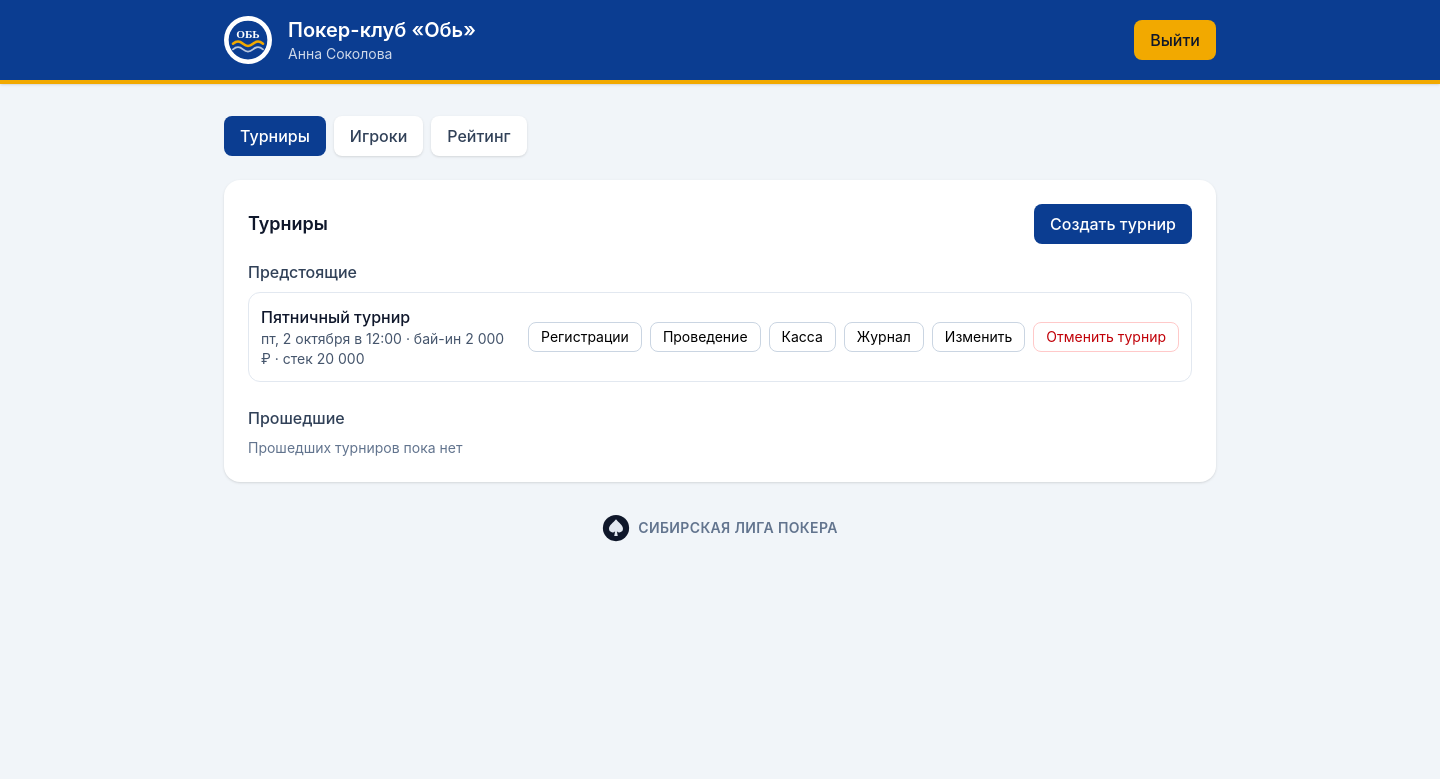
Scenario: tournament registrations › says whose phone it is when a new player turns out to be known in the league
Click the button "Регистрации" at (585,337), box left=528, top=322, right=642, bottom=352
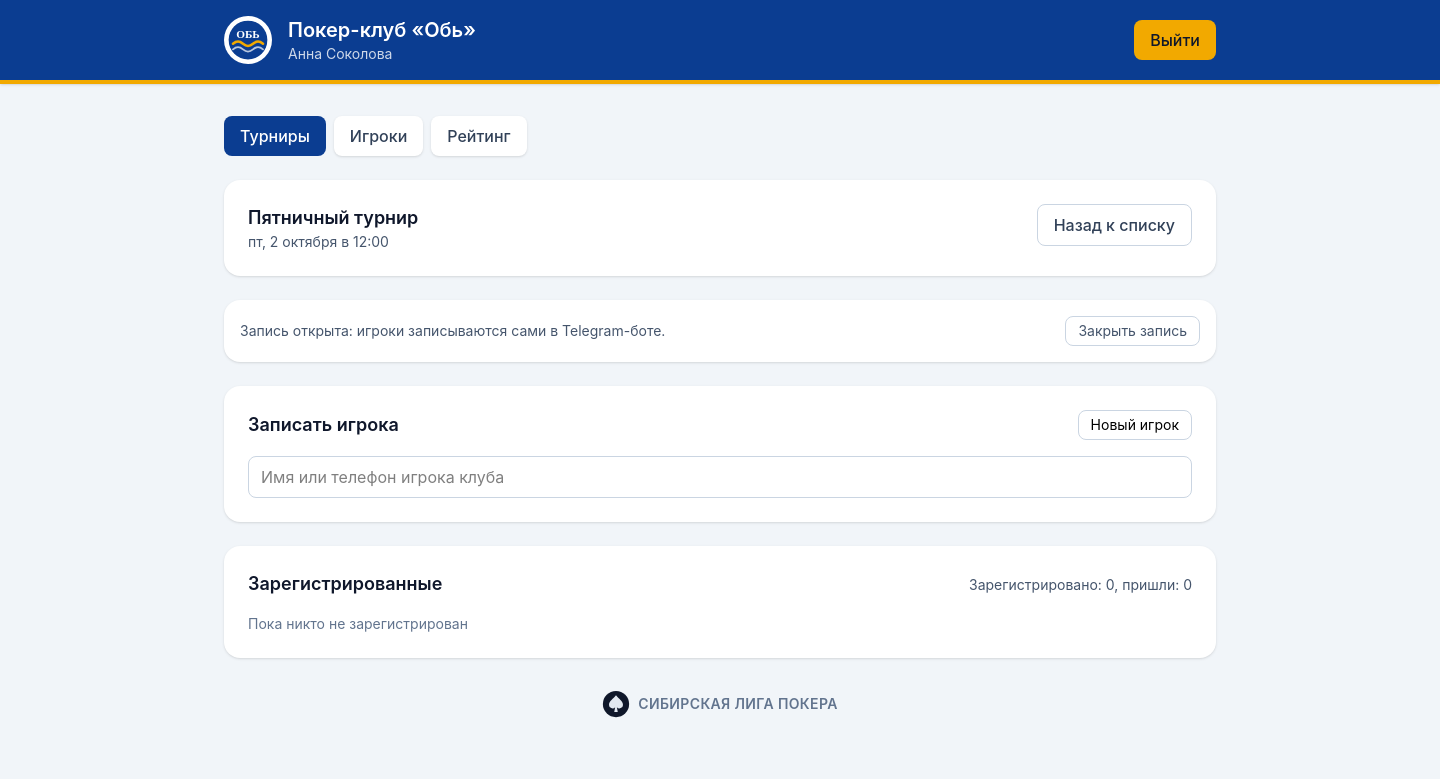
Now the heading "Пятничный турнир" is shown, box left=248, top=204, right=418, bottom=232
Click the button "Новый игрок" at (1135,425), box left=1078, top=410, right=1192, bottom=440
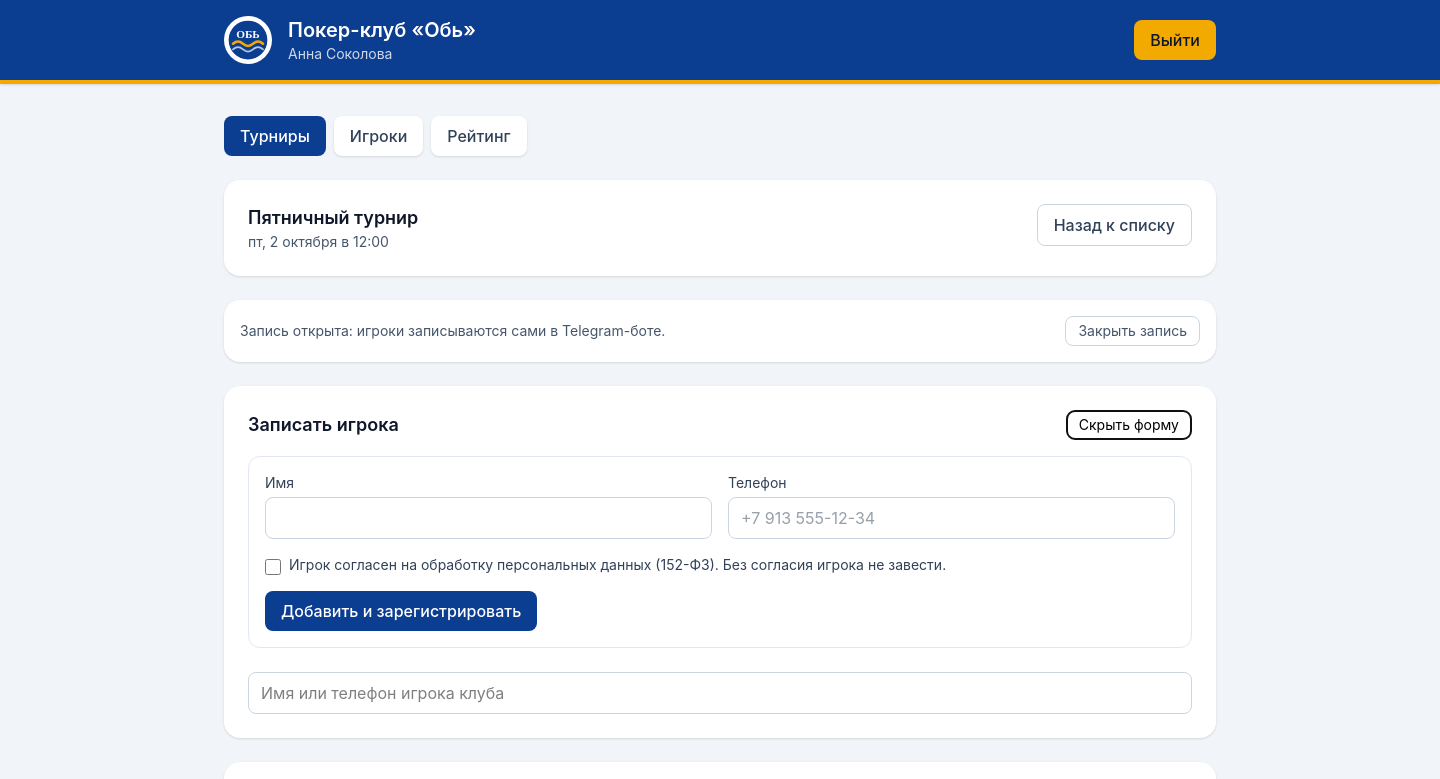
Type "Ваня" into the field labelled "Имя" at (488,518), box left=265, top=497, right=712, bottom=539
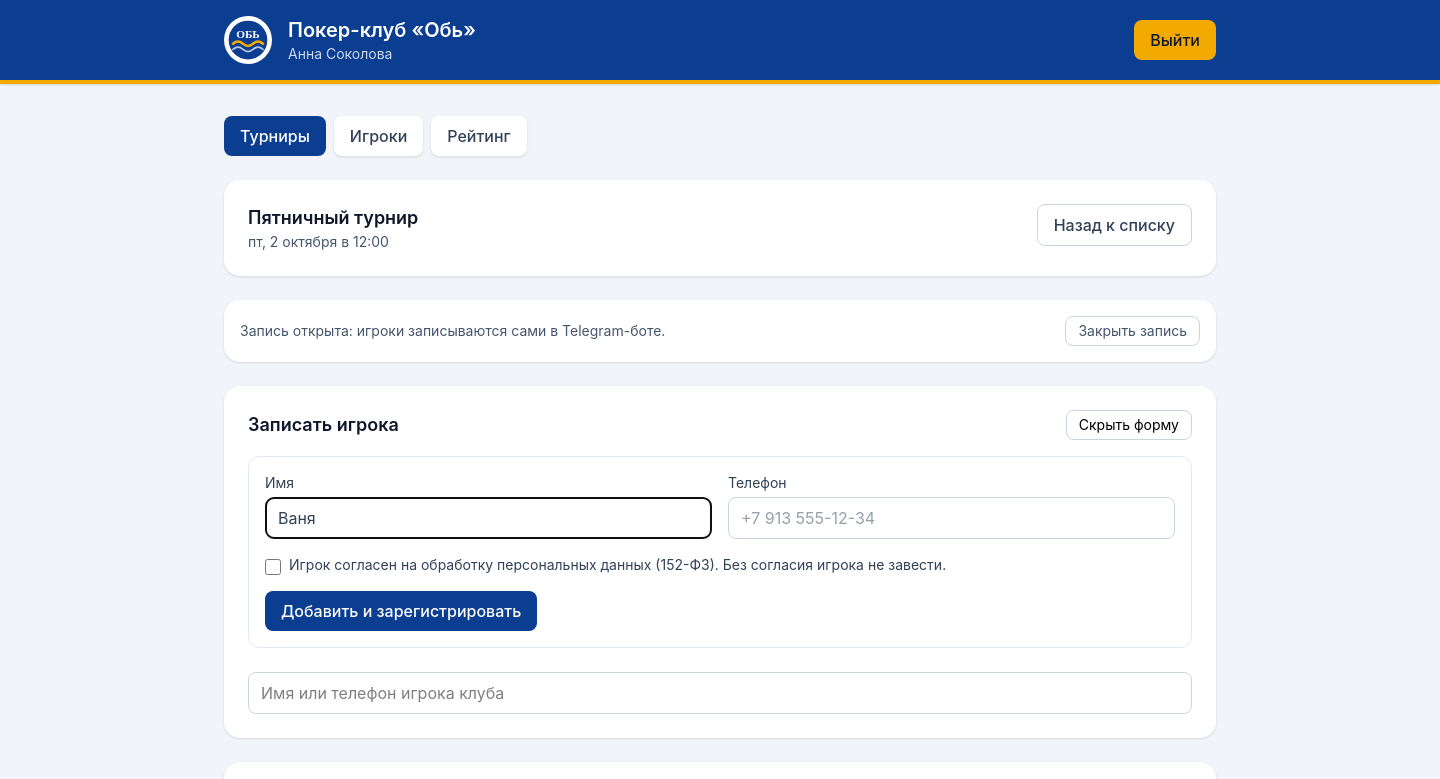
Type "8 913 555-12-34" into the field labelled "Телефон" at (952,518), box left=728, top=497, right=1175, bottom=539
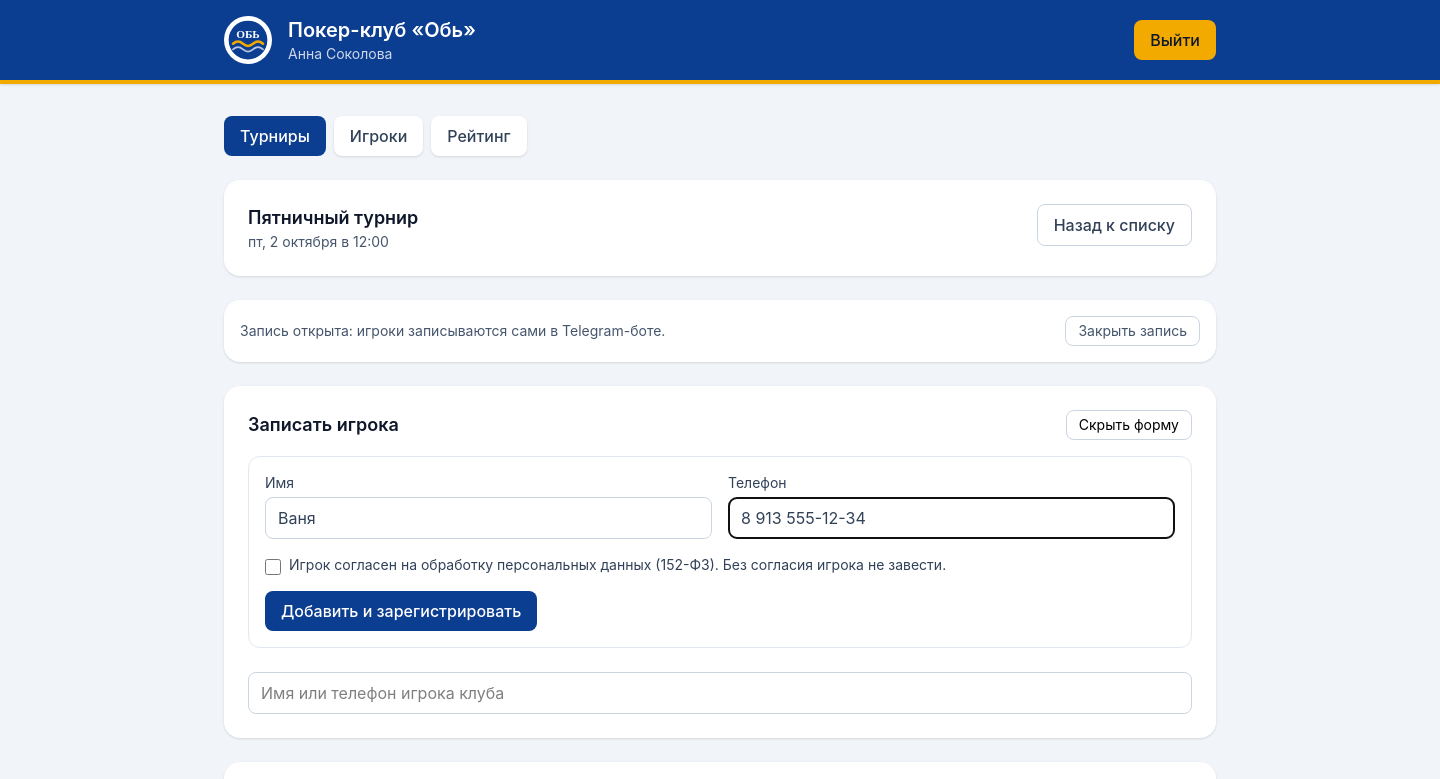
Click the checkbox labelled "Игрок согласен" at (273,567), box left=265, top=559, right=281, bottom=575
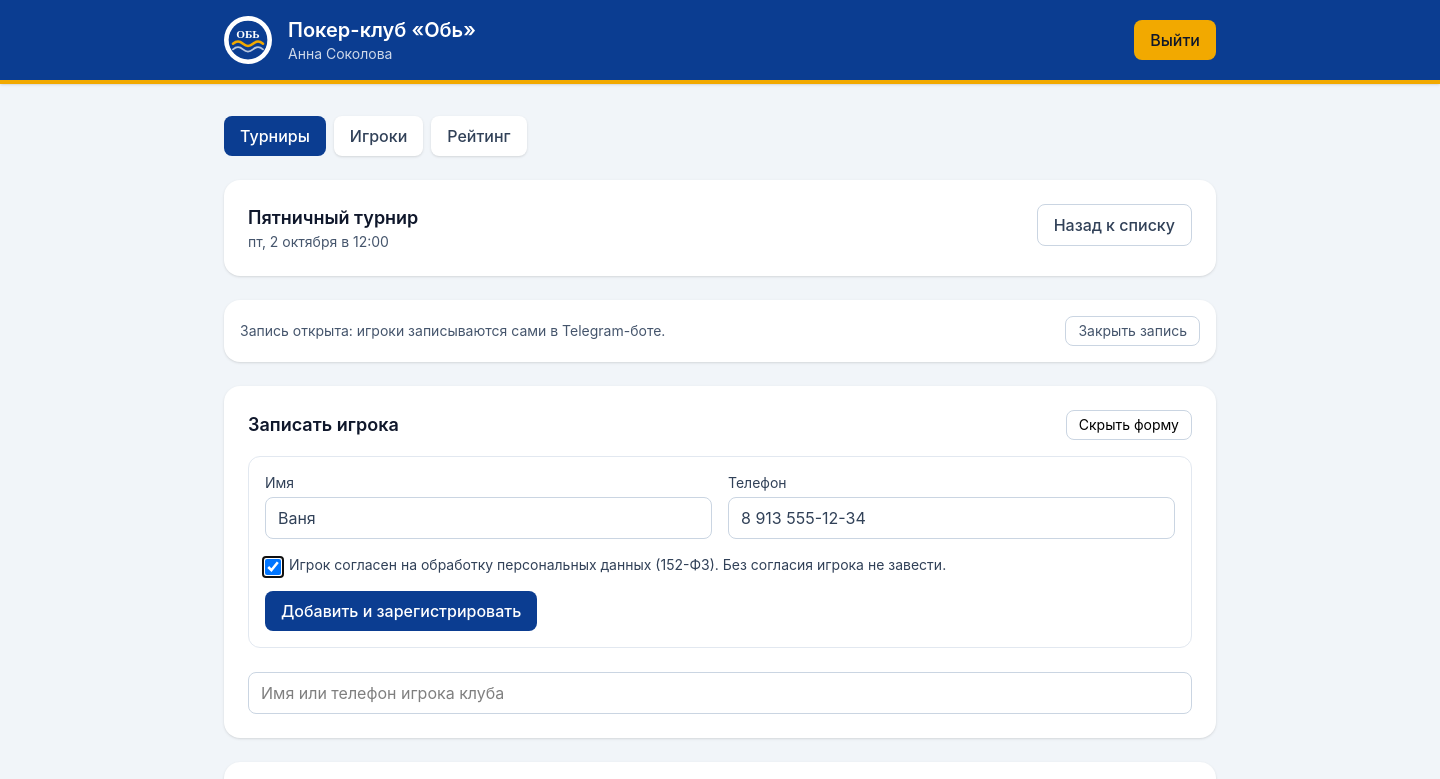
Click the button "Добавить и зарегистрировать" at (401,611), box left=265, top=591, right=537, bottom=631
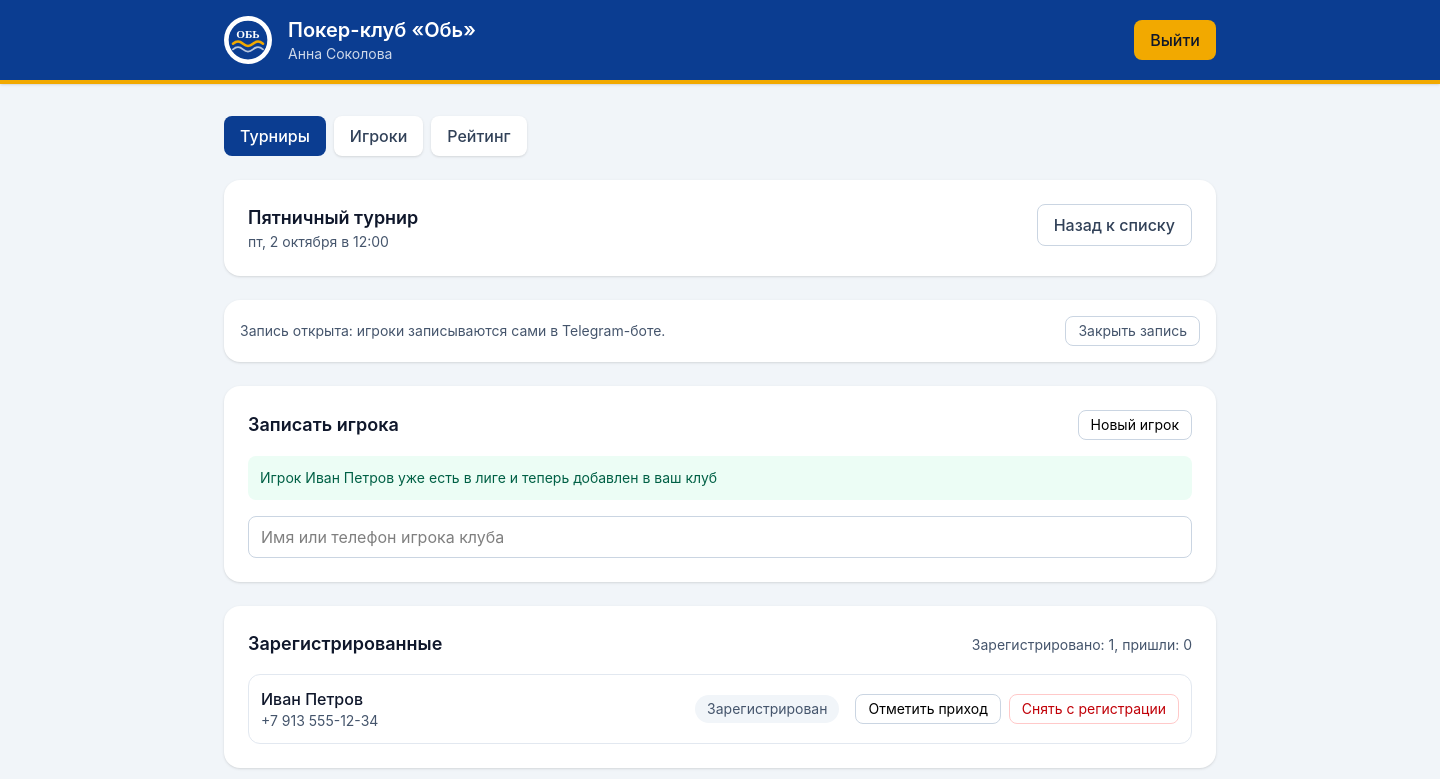
Now the message reads "Игрок Иван Петров уже есть в лиге и теперь добавлен в ваш клуб", box left=260, top=469, right=717, bottom=486
Now the list item "Иван Петров" shows "Зарегистрирован", box left=707, top=700, right=828, bottom=717
